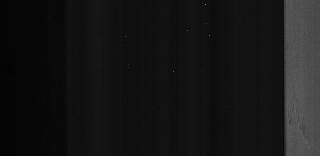silk spot: (288, 88, 316, 148)
